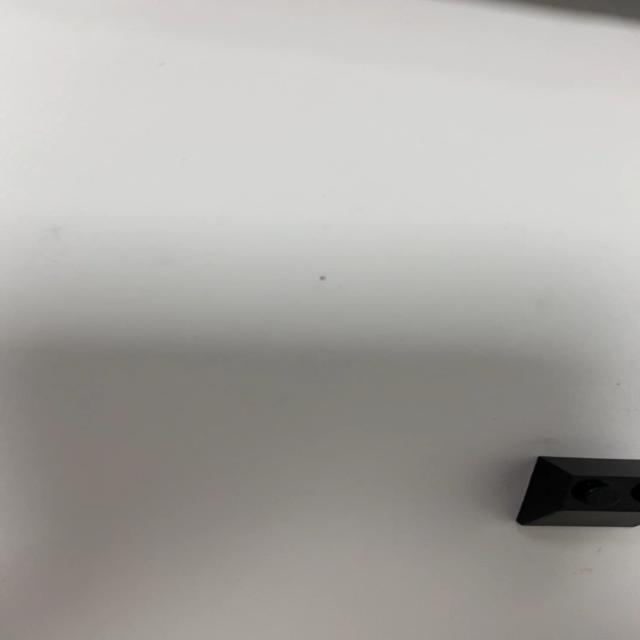P2x2x1: (514, 455, 638, 527)
